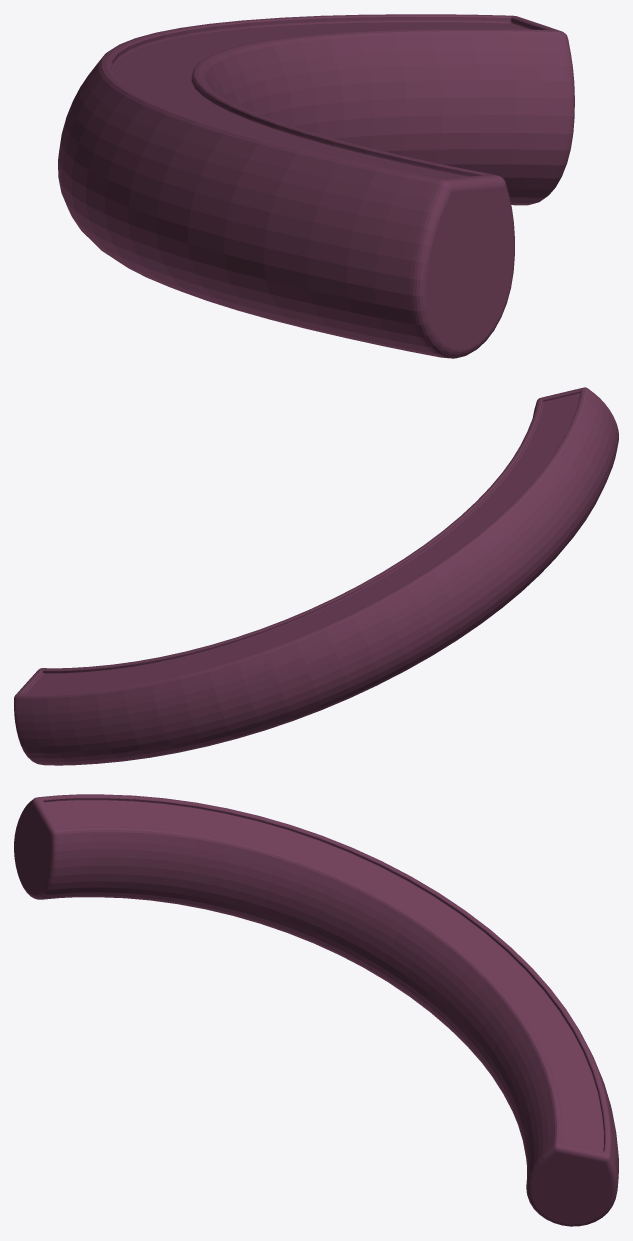
File: Lamph.fbx
3 views of the same model, one above another, from view 1: azimuth 30°, elevation 25°; view 2: azimuth 150°, elevation 25°; view 3: azimuth 270°, elevation 25° (orthographic). The views are drawn at different scales.
Visible parts, largest first — view 1: BeInspiration_69:Circle008; view 2: BeInspiration_69:Circle008; view 3: BeInspiration_69:Circle008.
Part boxes in pixels (bbox=[...]): BeInspiration_69:Circle008: bbox=[58, 14, 574, 358]; BeInspiration_69:Circle008: bbox=[14, 387, 618, 765]; BeInspiration_69:Circle008: bbox=[14, 794, 618, 1226].
Size of the model in its own units: 44.62 by 30.46 by 59.73.
